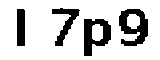7: (44, 2, 79, 52)
9: (116, 5, 154, 54)
I: (13, 4, 35, 52)
p: (81, 13, 113, 60)
